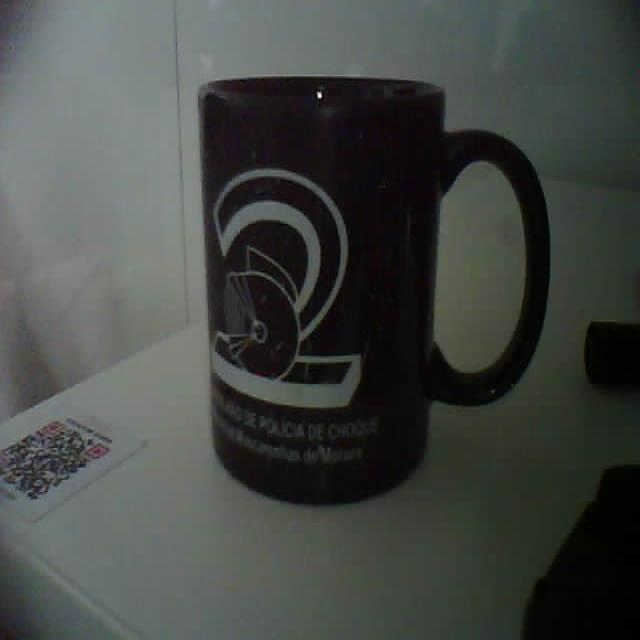caneca: (199, 76, 549, 503)
